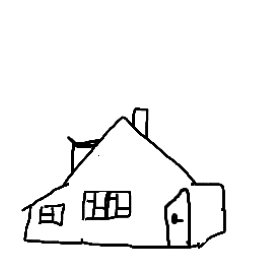bottom_placed_house: (1, 1, 260, 260)
chimney: (63, 129, 105, 179), (122, 104, 157, 147)
closed_window: (79, 187, 139, 221), (36, 199, 67, 230)
door: (161, 179, 200, 251)
single_line_roof: (6, 97, 236, 190)
wall: (18, 174, 232, 255)
